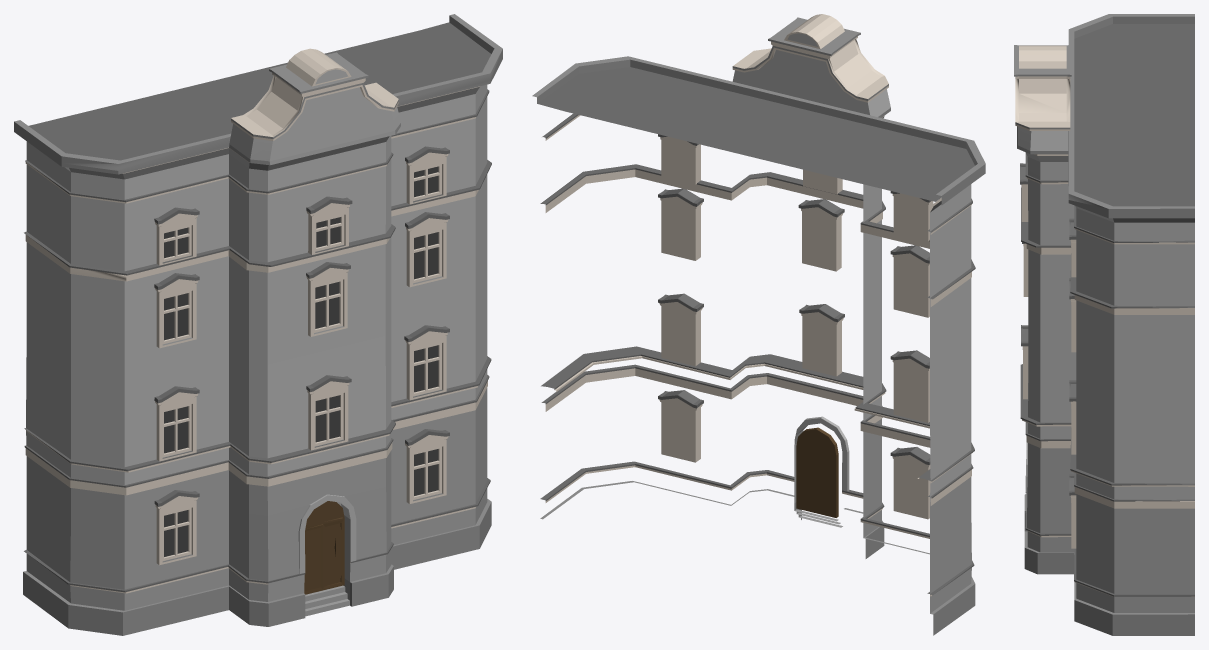
Rendered from whitehouse.glb.
3 renders of one model, left to right at view 1: azimuth 30°, elevation 25°; view 2: azimuth 150°, elevation 25°; view 3: azimuth 270°, elevation 25°, orthographic. The views are drawn at different scales.
Visible parts, largest first — view 1: whitehouse; view 2: whitehouse; view 3: whitehouse.
Part boxes in pixels (x1=…): whitehouse: x1=14, y1=14, x2=502, y2=635; whitehouse: x1=532, y1=14, x2=985, y2=635; whitehouse: x1=1014, y1=14, x2=1194, y2=635.
Size of the model in its own units: 11.83 by 13.98 by 4.63.
